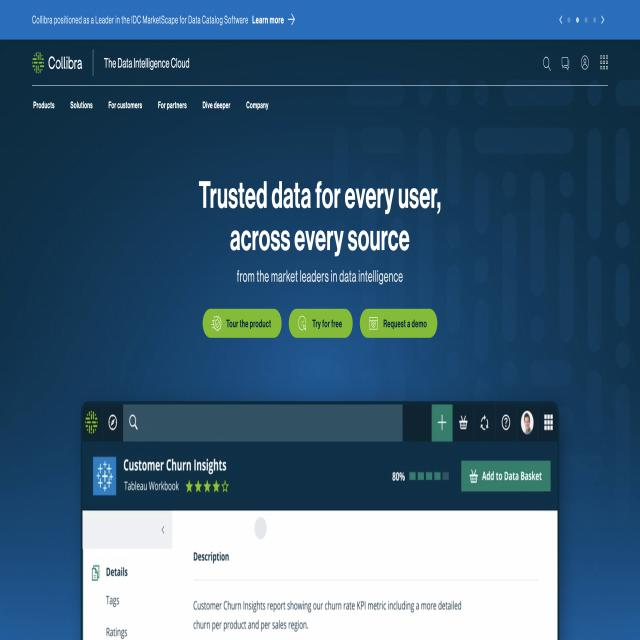Logo: (24, 43, 93, 82)
Navigation: (21, 89, 349, 123)
